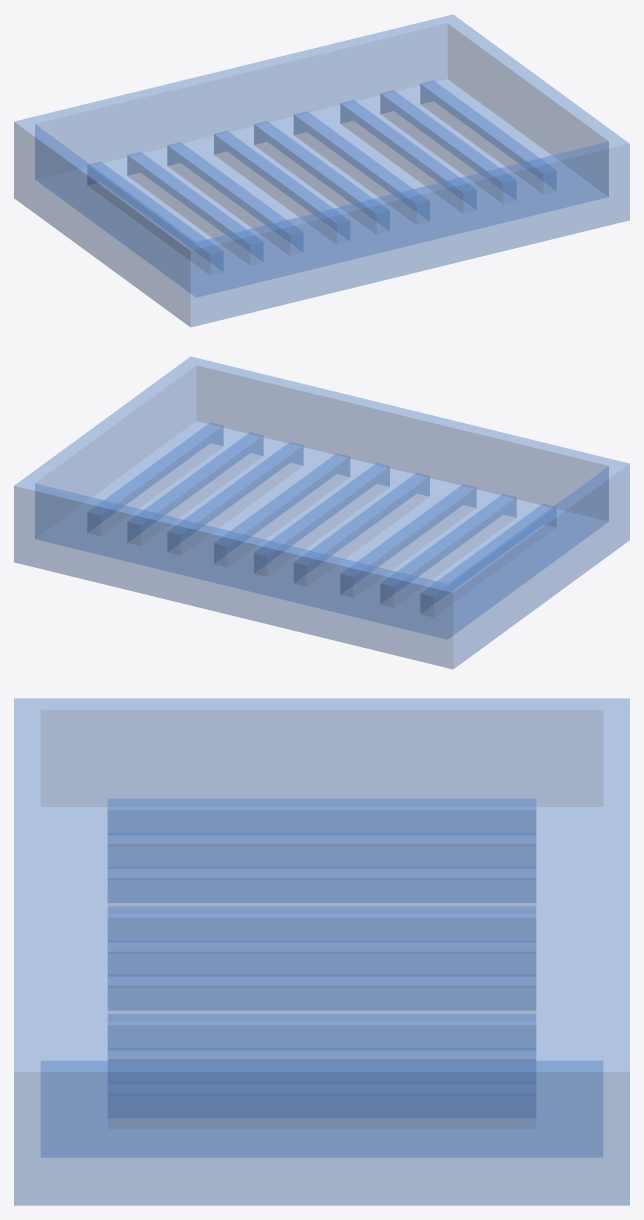
Rendered from soap_holder.glb.
The picture shows the model from 3 angles, top to bottom: view 1: azimuth 30°, elevation 25°; view 2: azimuth 150°, elevation 25°; view 3: azimuth 270°, elevation 25°; orthographic projection. The views are drawn at different scales.
Visible parts, largest first — view 1: soap_holder:compound; view 2: soap_holder:compound; view 3: soap_holder:compound.
Part boxes in pixels (x1,y1,x2,y2): soap_holder:compound: (14, 14, 629, 327); soap_holder:compound: (14, 357, 629, 669); soap_holder:compound: (14, 698, 629, 1205).
Size of the model in its own units: 0.132 by 0.022 by 0.092.
